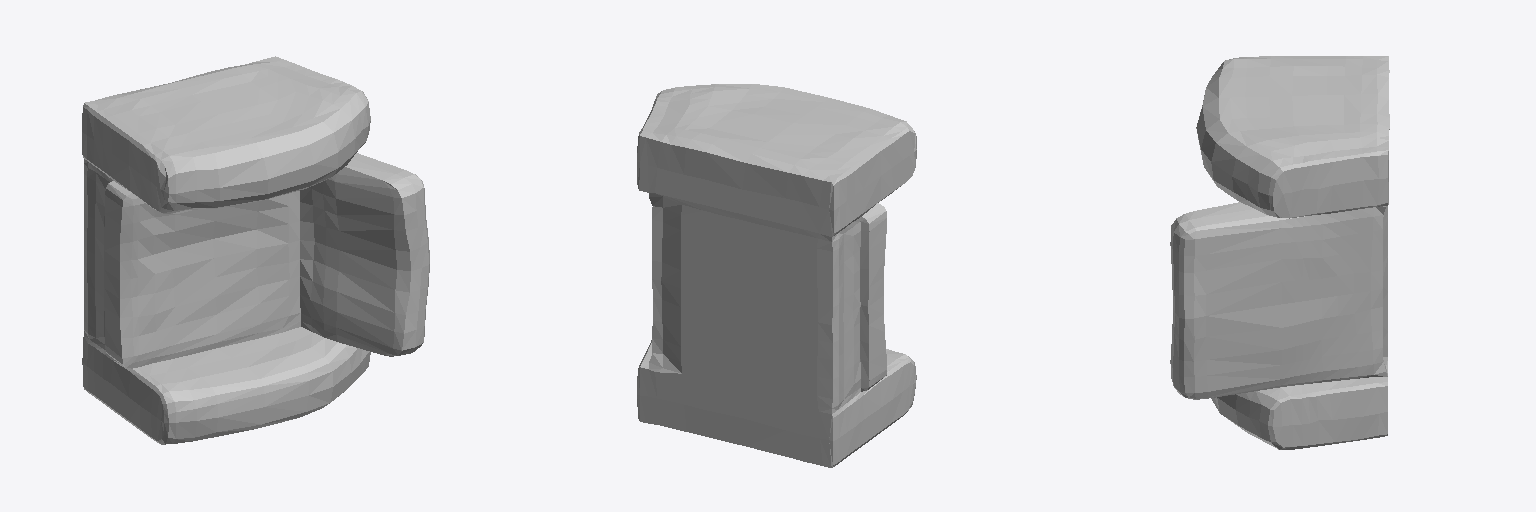
File: armchair.obj
The picture shows the model from 3 angles: view 1: azimuth 30°, elevation 25°; view 2: azimuth 150°, elevation 25°; view 3: azimuth 270°, elevation 25°; orthographic projection.
Parts seen in each view (by area): view 1: armchair_Plane; view 2: armchair_Plane; view 3: armchair_Plane.
Part boxes in pixels (x1,y1,x2,y2): armchair_Plane: (82, 56, 429, 444); armchair_Plane: (637, 84, 916, 467); armchair_Plane: (1170, 56, 1389, 449).
Bounding box in the file's own units: 0.962 × 1.06 × 0.7212.